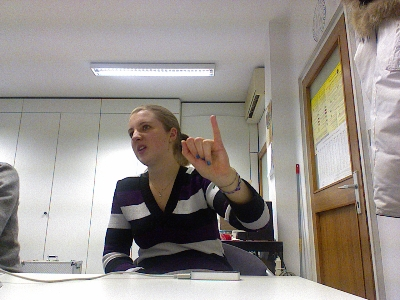小指: (179, 114, 231, 183)
